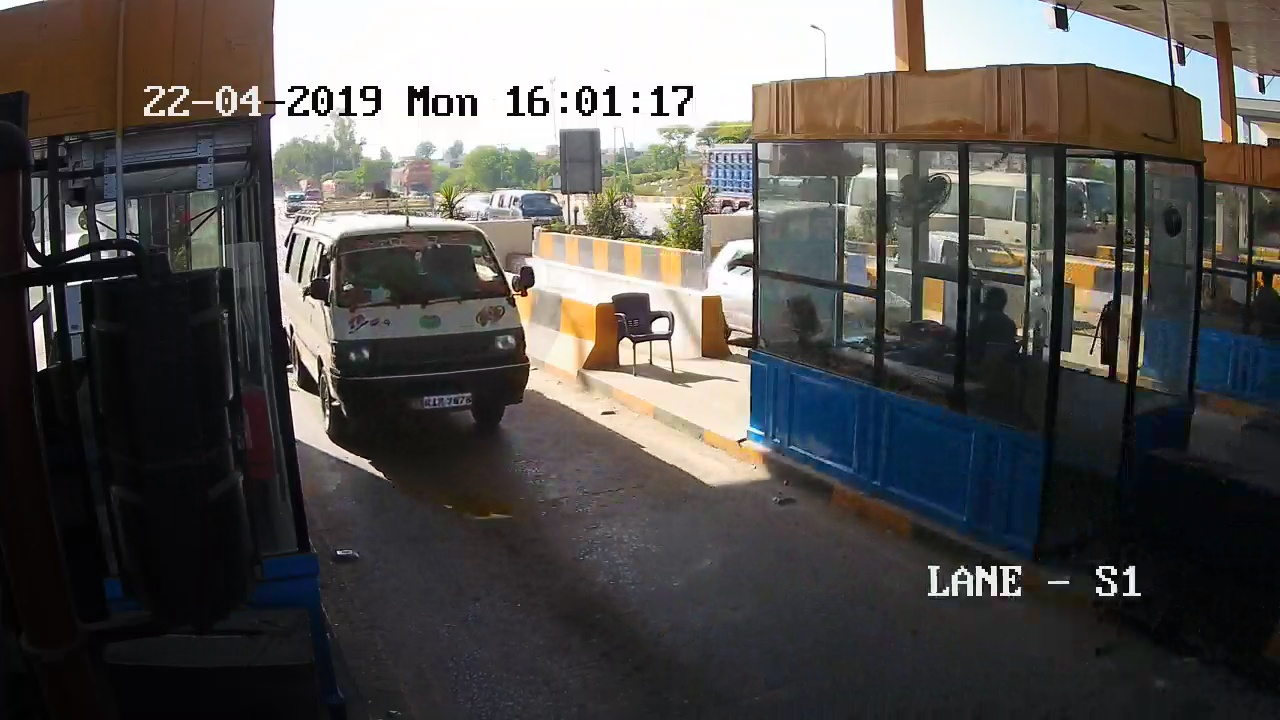car: (277, 198, 551, 485)
